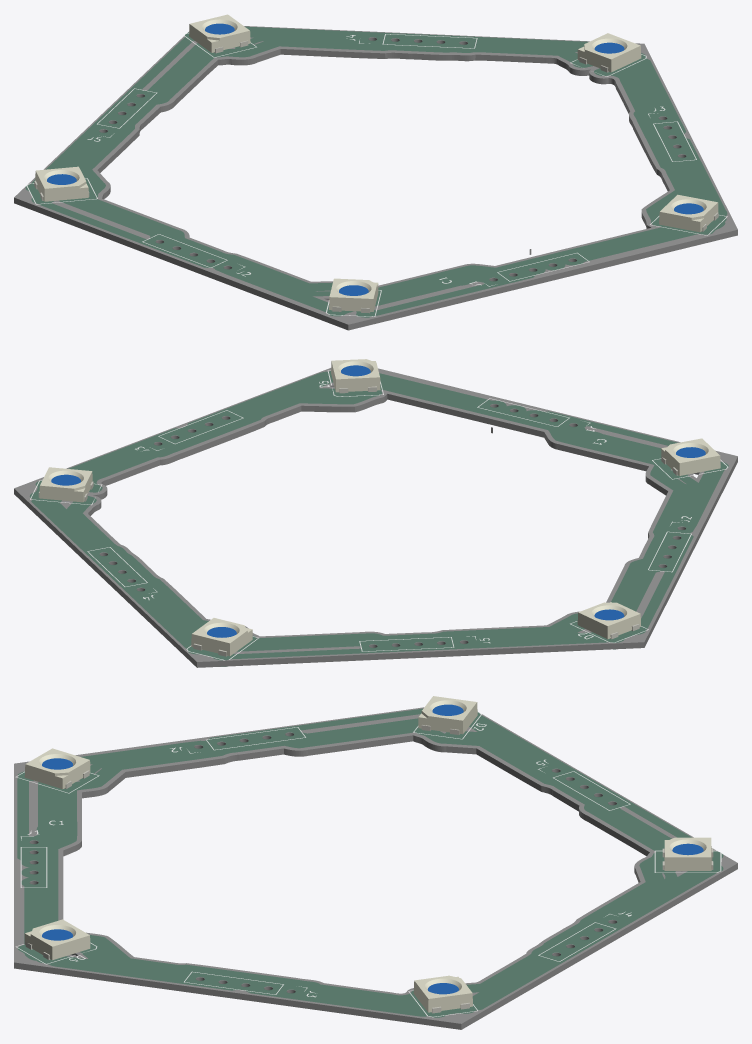
3 views of the same model, one above another, from view 1: azimuth 30°, elevation 25°; view 2: azimuth 150°, elevation 25°; view 3: azimuth 270°, elevation 25° (orthographic). The views are drawn at different scales.
Parts seen in each view (by area): view 1: =>[0:1:1:6], =>[0:1:1:4], =>[0:1:1:3], D4, D3, D5, D2, D1; view 2: =>[0:1:1:6], =>[0:1:1:4], =>[0:1:1:3], D2, D3, D1, D4, D5; view 3: =>[0:1:1:6], =>[0:1:1:4], =>[0:1:1:3], D1, D5, D2, D4, D3.
Boxes of the visible parts, bbox=[...] form: =>[0:1:1:6]: bbox=[14, 26, 737, 330]; =>[0:1:1:4]: bbox=[25, 26, 727, 317]; =>[0:1:1:3]: bbox=[26, 33, 727, 316]; D4: bbox=[577, 33, 641, 72]; D3: bbox=[189, 14, 250, 53]; D5: bbox=[659, 194, 718, 232]; D2: bbox=[34, 166, 89, 201]; D1: bbox=[329, 278, 378, 313]; =>[0:1:1:6]: bbox=[14, 368, 737, 667]; =>[0:1:1:4]: bbox=[29, 371, 728, 666]; =>[0:1:1:3]: bbox=[30, 370, 728, 660]; D2: bbox=[577, 602, 640, 639]; D3: bbox=[191, 618, 252, 656]; D1: bbox=[661, 438, 720, 475]; D4: bbox=[38, 467, 93, 502]; D5: bbox=[331, 359, 380, 393]; =>[0:1:1:6]: bbox=[14, 707, 737, 1029]; =>[0:1:1:4]: bbox=[17, 708, 723, 1017]; =>[0:1:1:3]: bbox=[15, 712, 721, 1017]; D1: bbox=[24, 748, 90, 789]; D5: bbox=[24, 919, 90, 960]; D2: bbox=[418, 696, 477, 734]; D4: bbox=[413, 975, 472, 1013]; D3: bbox=[662, 837, 713, 870].
Bounding box in the file's own units: 0.0809 × 0.00257 × 0.0769.
